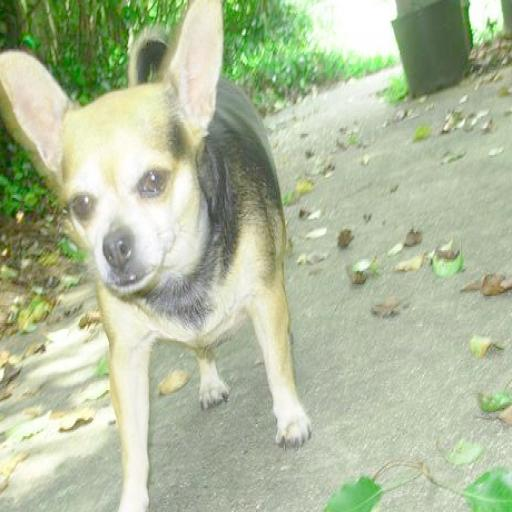dog_face: (1, 0, 222, 302)
